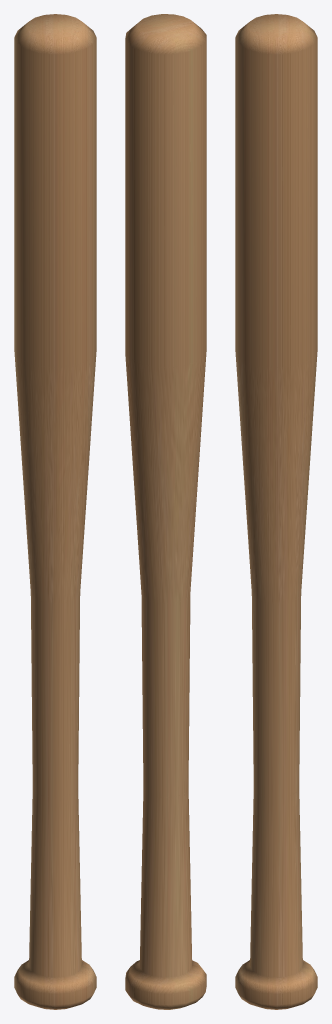
File: Model Low Poly Baseball Bat.FBX
3 views of the same model, side by side, from view 1: azimuth 90°, elevation 25°; view 2: azimuth 210°, elevation 25°; view 3: azimuth 270°, elevation 25° (orthographic).
Parts seen in each view (by area): view 1: Цилиндр; view 2: Цилиндр; view 3: Цилиндр.
Boxes of the visible parts, x1,y1,x2,y2 form: Цилиндр: (14, 14, 96, 1009); Цилиндр: (125, 14, 206, 1009); Цилиндр: (235, 14, 317, 1009).
Size of the model in its own units: 4.6 by 60 by 4.6.
1 material, 1 textured.
